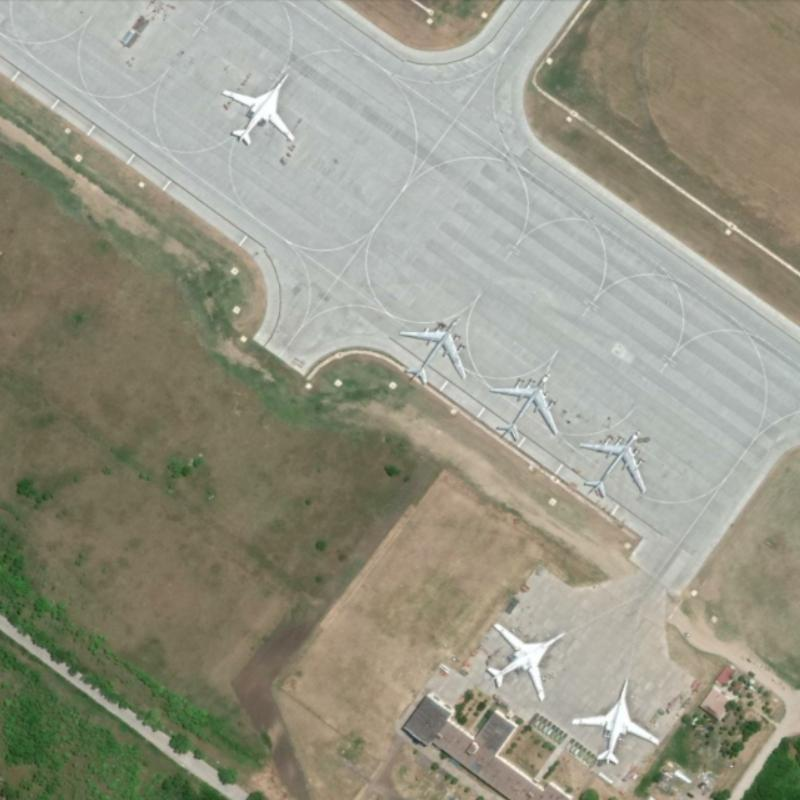A17: (482, 368, 562, 444), (393, 312, 471, 389), (573, 424, 650, 500)
A6: (565, 675, 662, 769), (483, 618, 572, 704), (219, 64, 301, 147)
